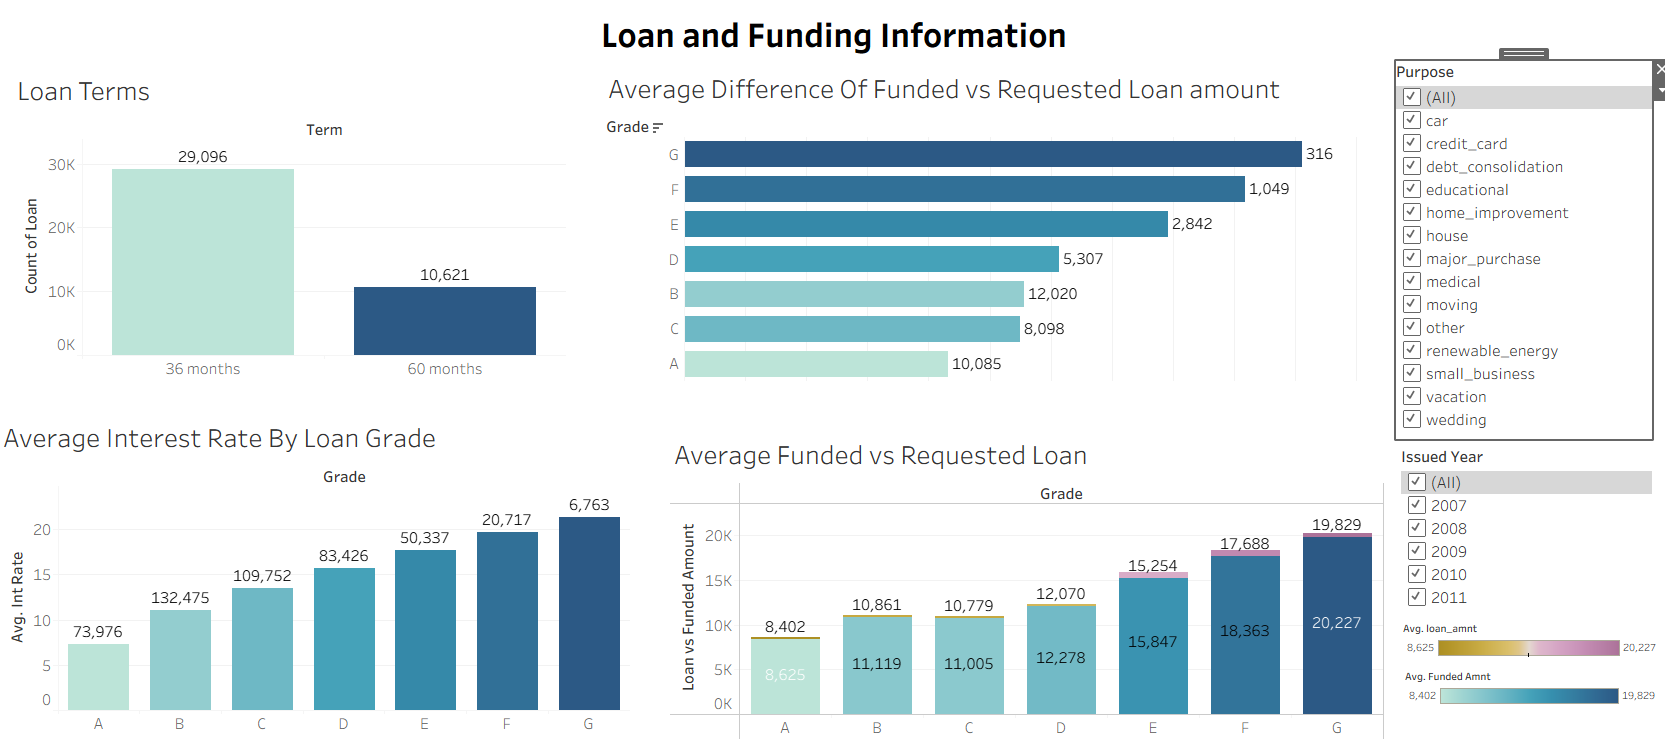

The dashboard page shown, as its layout file describes it:
{"tool":"tableau","page":{"name":"Loan And Funding Information","canvas":[1000,1000],"units":"permille","ordinal":1},"visuals":[{"type":"title","box":[4.8,10.7,990.5,71]},{"type":"filter","title":"Average Difference Of Funded vs Requested Loan amount","param":"[federated.1oazph415arqml1f6i4t30bievzv].[none:purpose:nk]","box":[835.1,82.8,152.5,506.1]},{"type":"worksheet","title":"Average Difference Of Funded vs Requested Loan amount","mark":"Bar","rows":["grade"],"cols":["loan_amnt"],"box":[362.9,91,469,420.4]},{"type":"worksheet","title":"Loan Terms","mark":"Automatic","rows":["Calculation_2661627427349114884"],"cols":["term"],"box":[10.7,93.7,329.6,436.4]},{"type":"worksheet","title":"Average Interest Rate By Loan Grade","mark":"Automatic","rows":["int_rate"],"cols":["grade"],"box":[2.4,558.2,376,427]},{"type":"worksheet","title":"Average Funded vs Requested Loan","mark":"Bar","rows":["loan_amnt","funded_amnt"],"cols":["grade"],"box":[402.3,581,425.5,411]},{"type":"filter","title":"Average Difference Of Funded vs Requested Loan amount","param":"[federated.1oazph415arqml1f6i4t30bievzv].[yr:issue_d:ok]","box":[837.9,598.4,149.7,225.2]},{"type":"legend","title":"Average Funded vs Requested Loan","param":"[federated.1oazph415arqml1f6i4t30bievzv].[avg:loan_amnt:qk]","box":[839.1,832.7,153.8,53.6]},{"type":"legend","title":"Average Funded vs Requested Loan","param":"[federated.1oazph415arqml1f6i4t30bievzv].[avg:funded_amnt:qk]","box":[840.3,896.9,152,93.7]}]}

Visuals, with their boxes on the dashboard's canvas, which has no fixed pixel size, in thousandths of its width and height (x1, y1, x2, y2). These are canvas units, not pixel positions in the 1665x742 screenshot, which may show the page scaled, cropped or inside an application window:
title: crop(5, 11, 995, 82)
"Average Difference Of Funded vs Requested Loan amount" filter: crop(835, 83, 988, 589)
"Average Difference Of Funded vs Requested Loan amount" worksheet (Bar marks): crop(363, 91, 832, 511)
"Loan Terms" worksheet: crop(11, 94, 340, 530)
"Average Interest Rate By Loan Grade" worksheet: crop(2, 558, 378, 985)
"Average Funded vs Requested Loan" worksheet (Bar marks): crop(402, 581, 828, 992)
"Average Difference Of Funded vs Requested Loan amount" filter: crop(838, 598, 988, 824)
"Average Funded vs Requested Loan" legend: crop(839, 833, 993, 886)
"Average Funded vs Requested Loan" legend: crop(840, 897, 992, 991)
